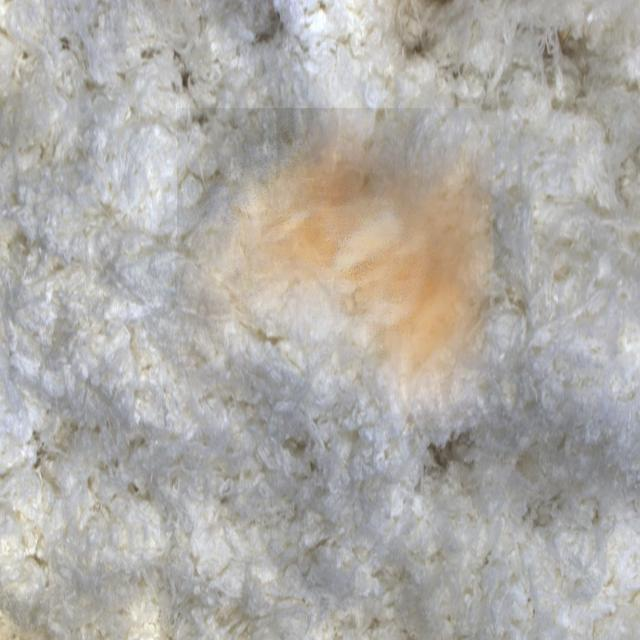dust: (177, 108, 493, 428)
